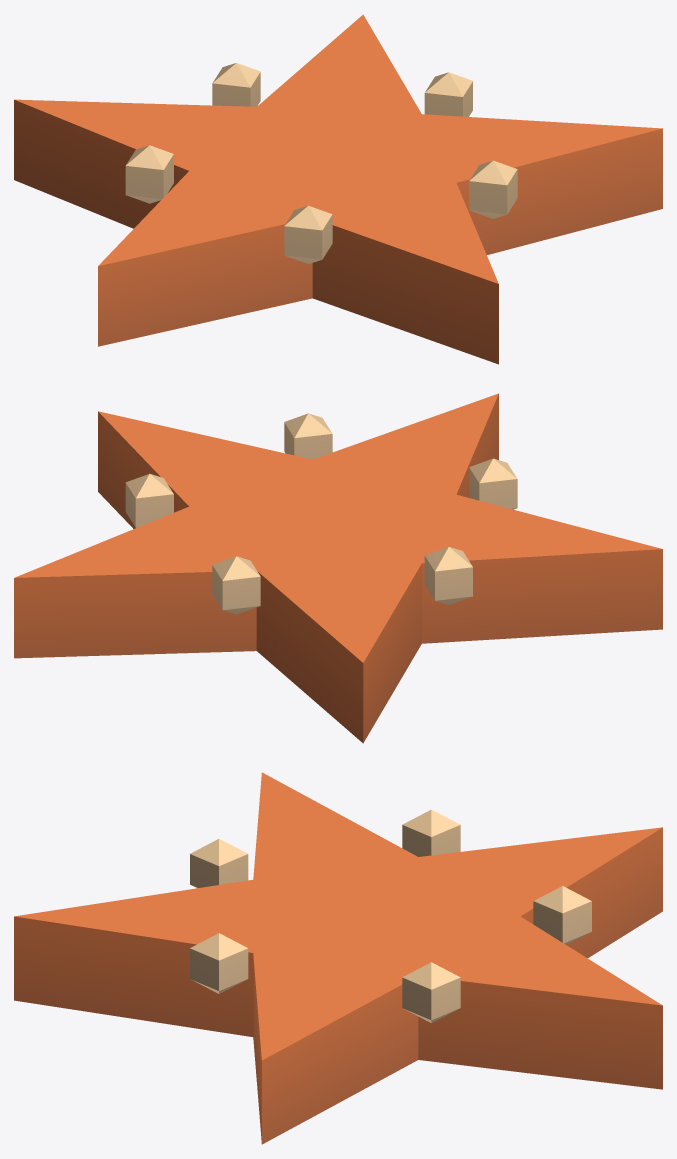
The model's file is tiny_starfish.glb.
3 renders of one model, top to bottom at view 1: azimuth 30°, elevation 25°; view 2: azimuth 150°, elevation 25°; view 3: azimuth 270°, elevation 25°, orthographic. The views are drawn at different scales.
Parts seen in each view (by area): view 1: tiny_starfish; view 2: tiny_starfish; view 3: tiny_starfish.
Part boxes in pixels (box(x1,y1,x2,y2)): tiny_starfish: box(14, 14, 662, 364); tiny_starfish: box(14, 393, 662, 743); tiny_starfish: box(14, 772, 662, 1144).
Size of the model in its own units: 0.1617 by 0.03 by 0.1538.
